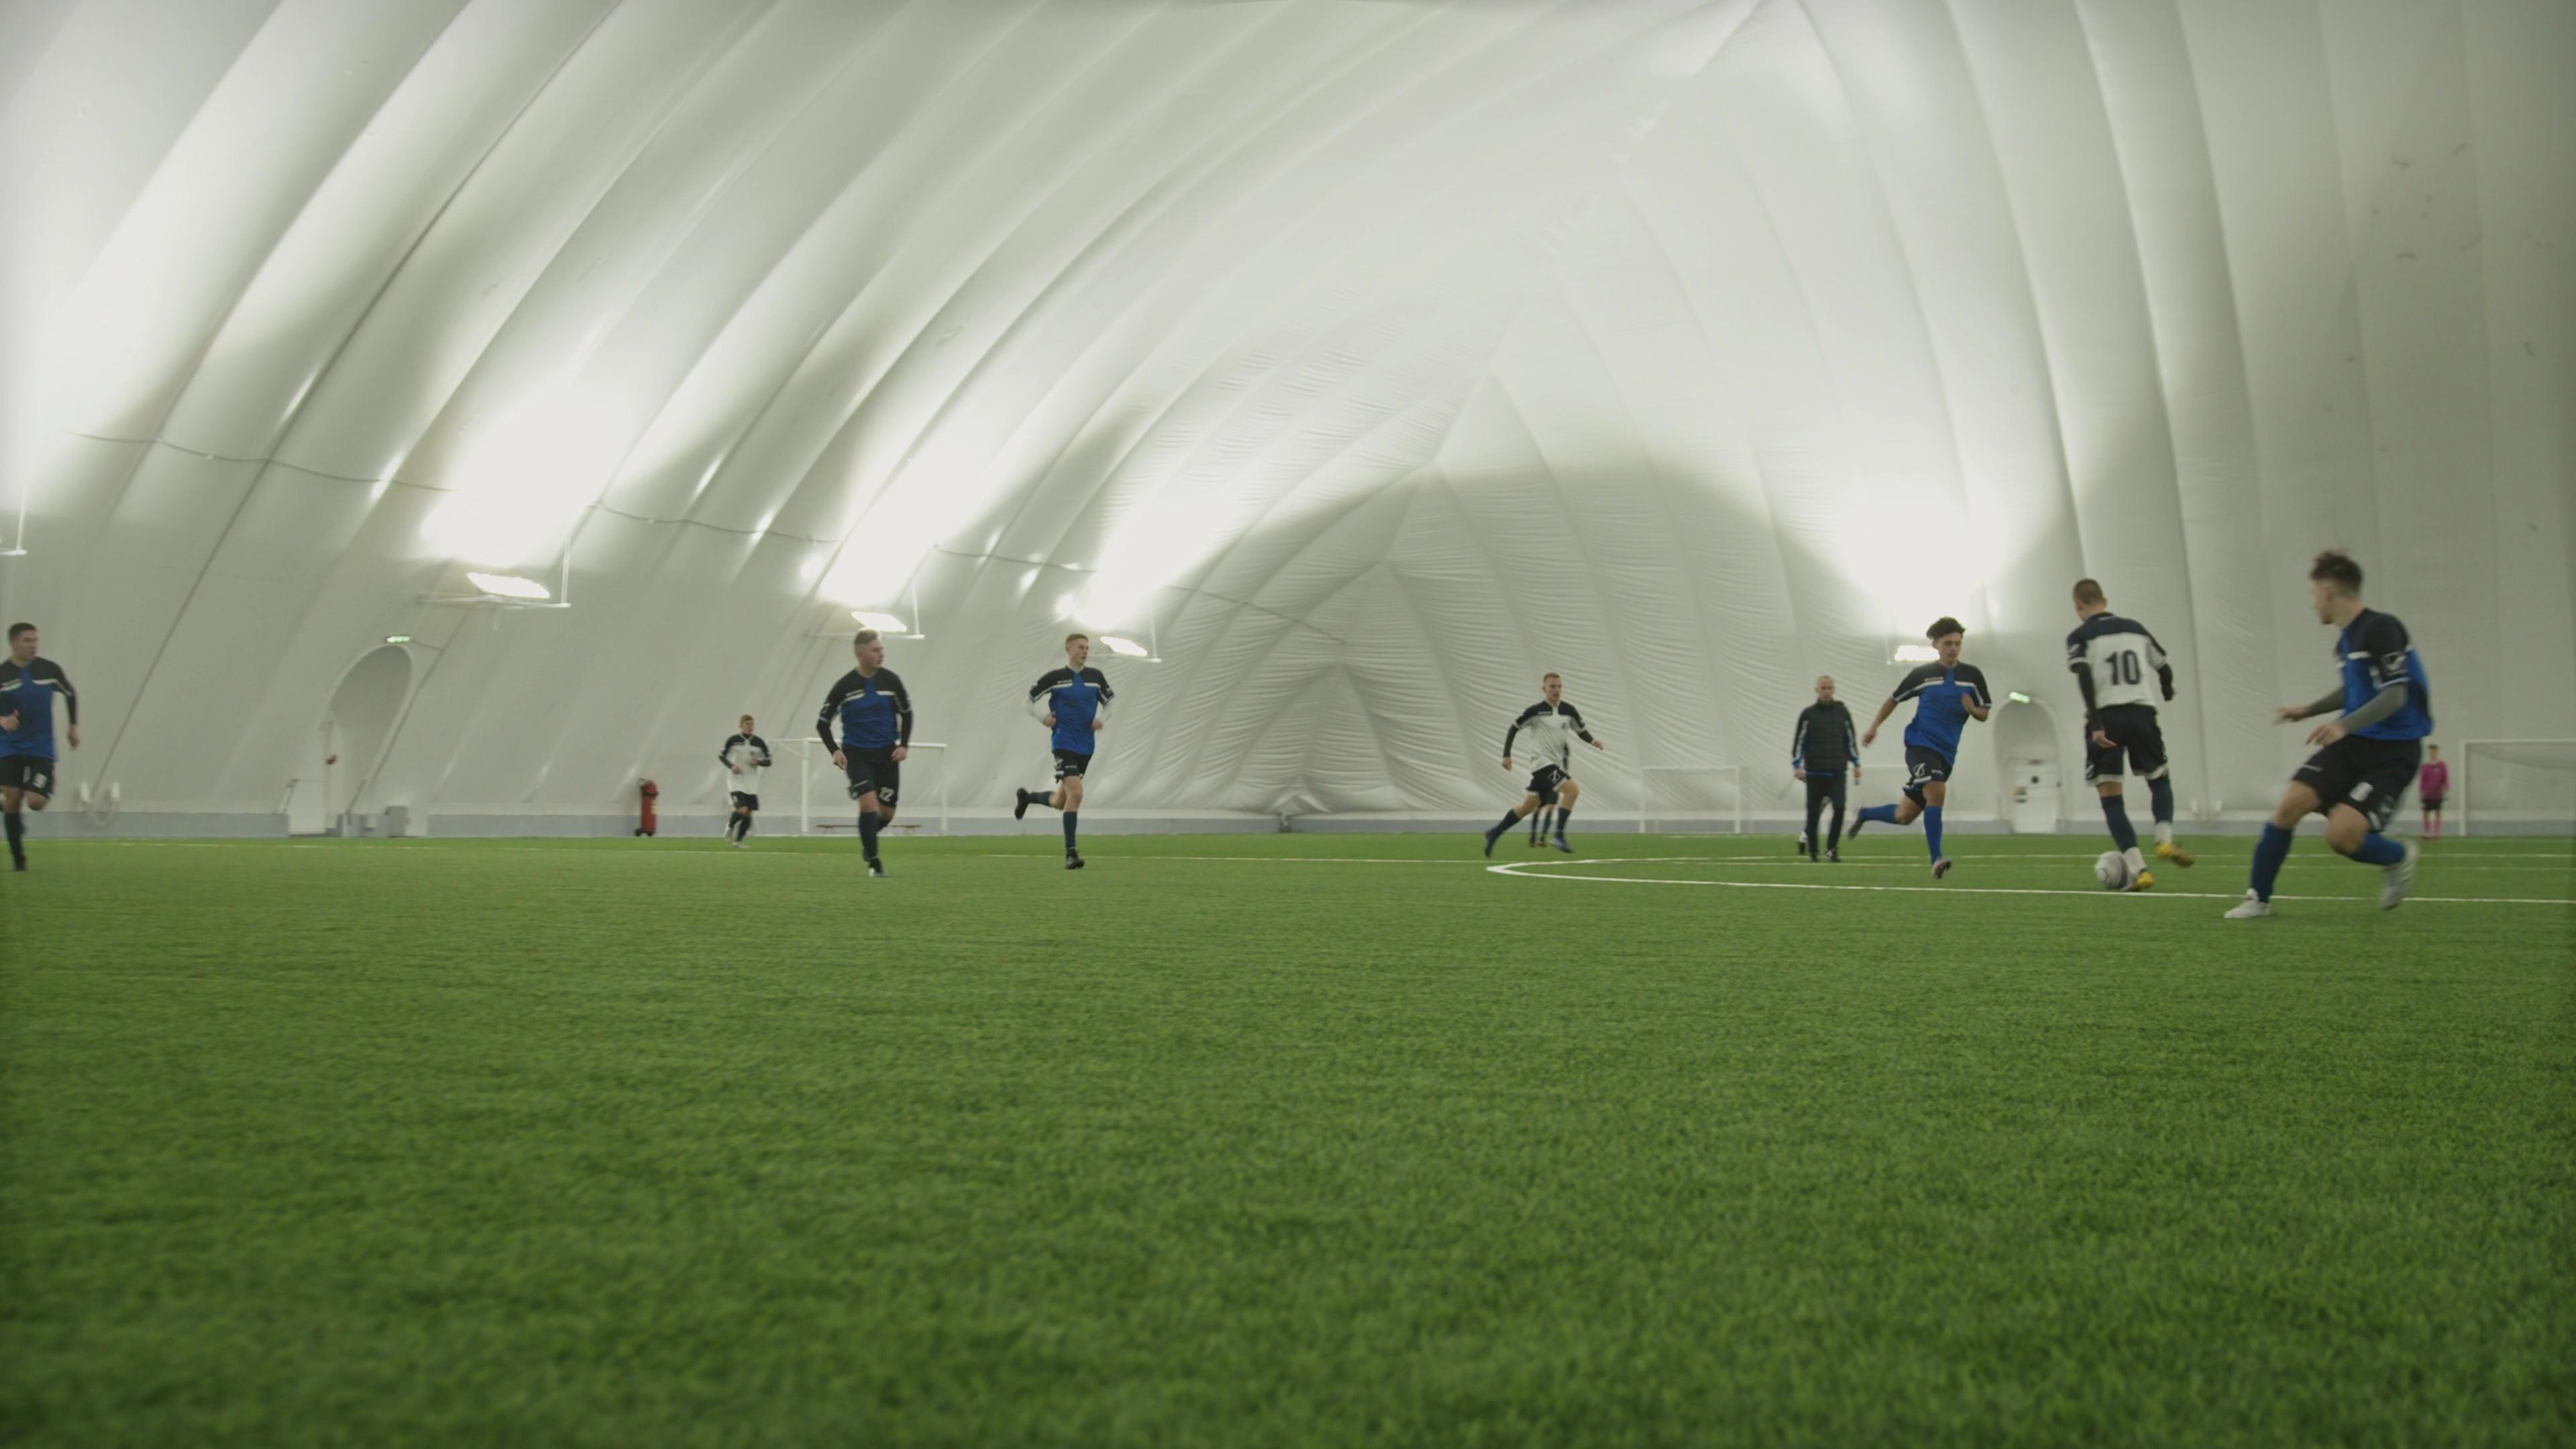other: (1787, 674, 1861, 860)
team1: (2224, 550, 2442, 922), (1891, 612, 1994, 879), (817, 630, 915, 879), (1024, 625, 1116, 874), (0, 619, 81, 870)
team2: (2063, 577, 2190, 890), (1493, 671, 1606, 855), (715, 708, 777, 846)
